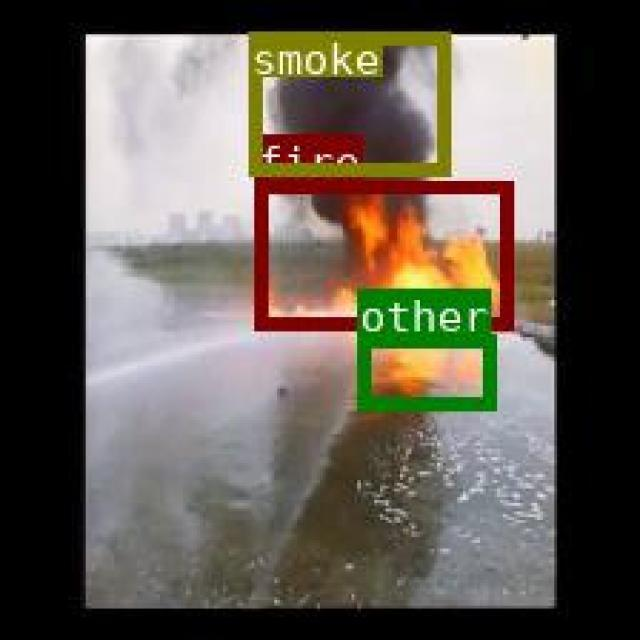fire: (254, 179, 511, 328)
smoke: (246, 29, 447, 174)
